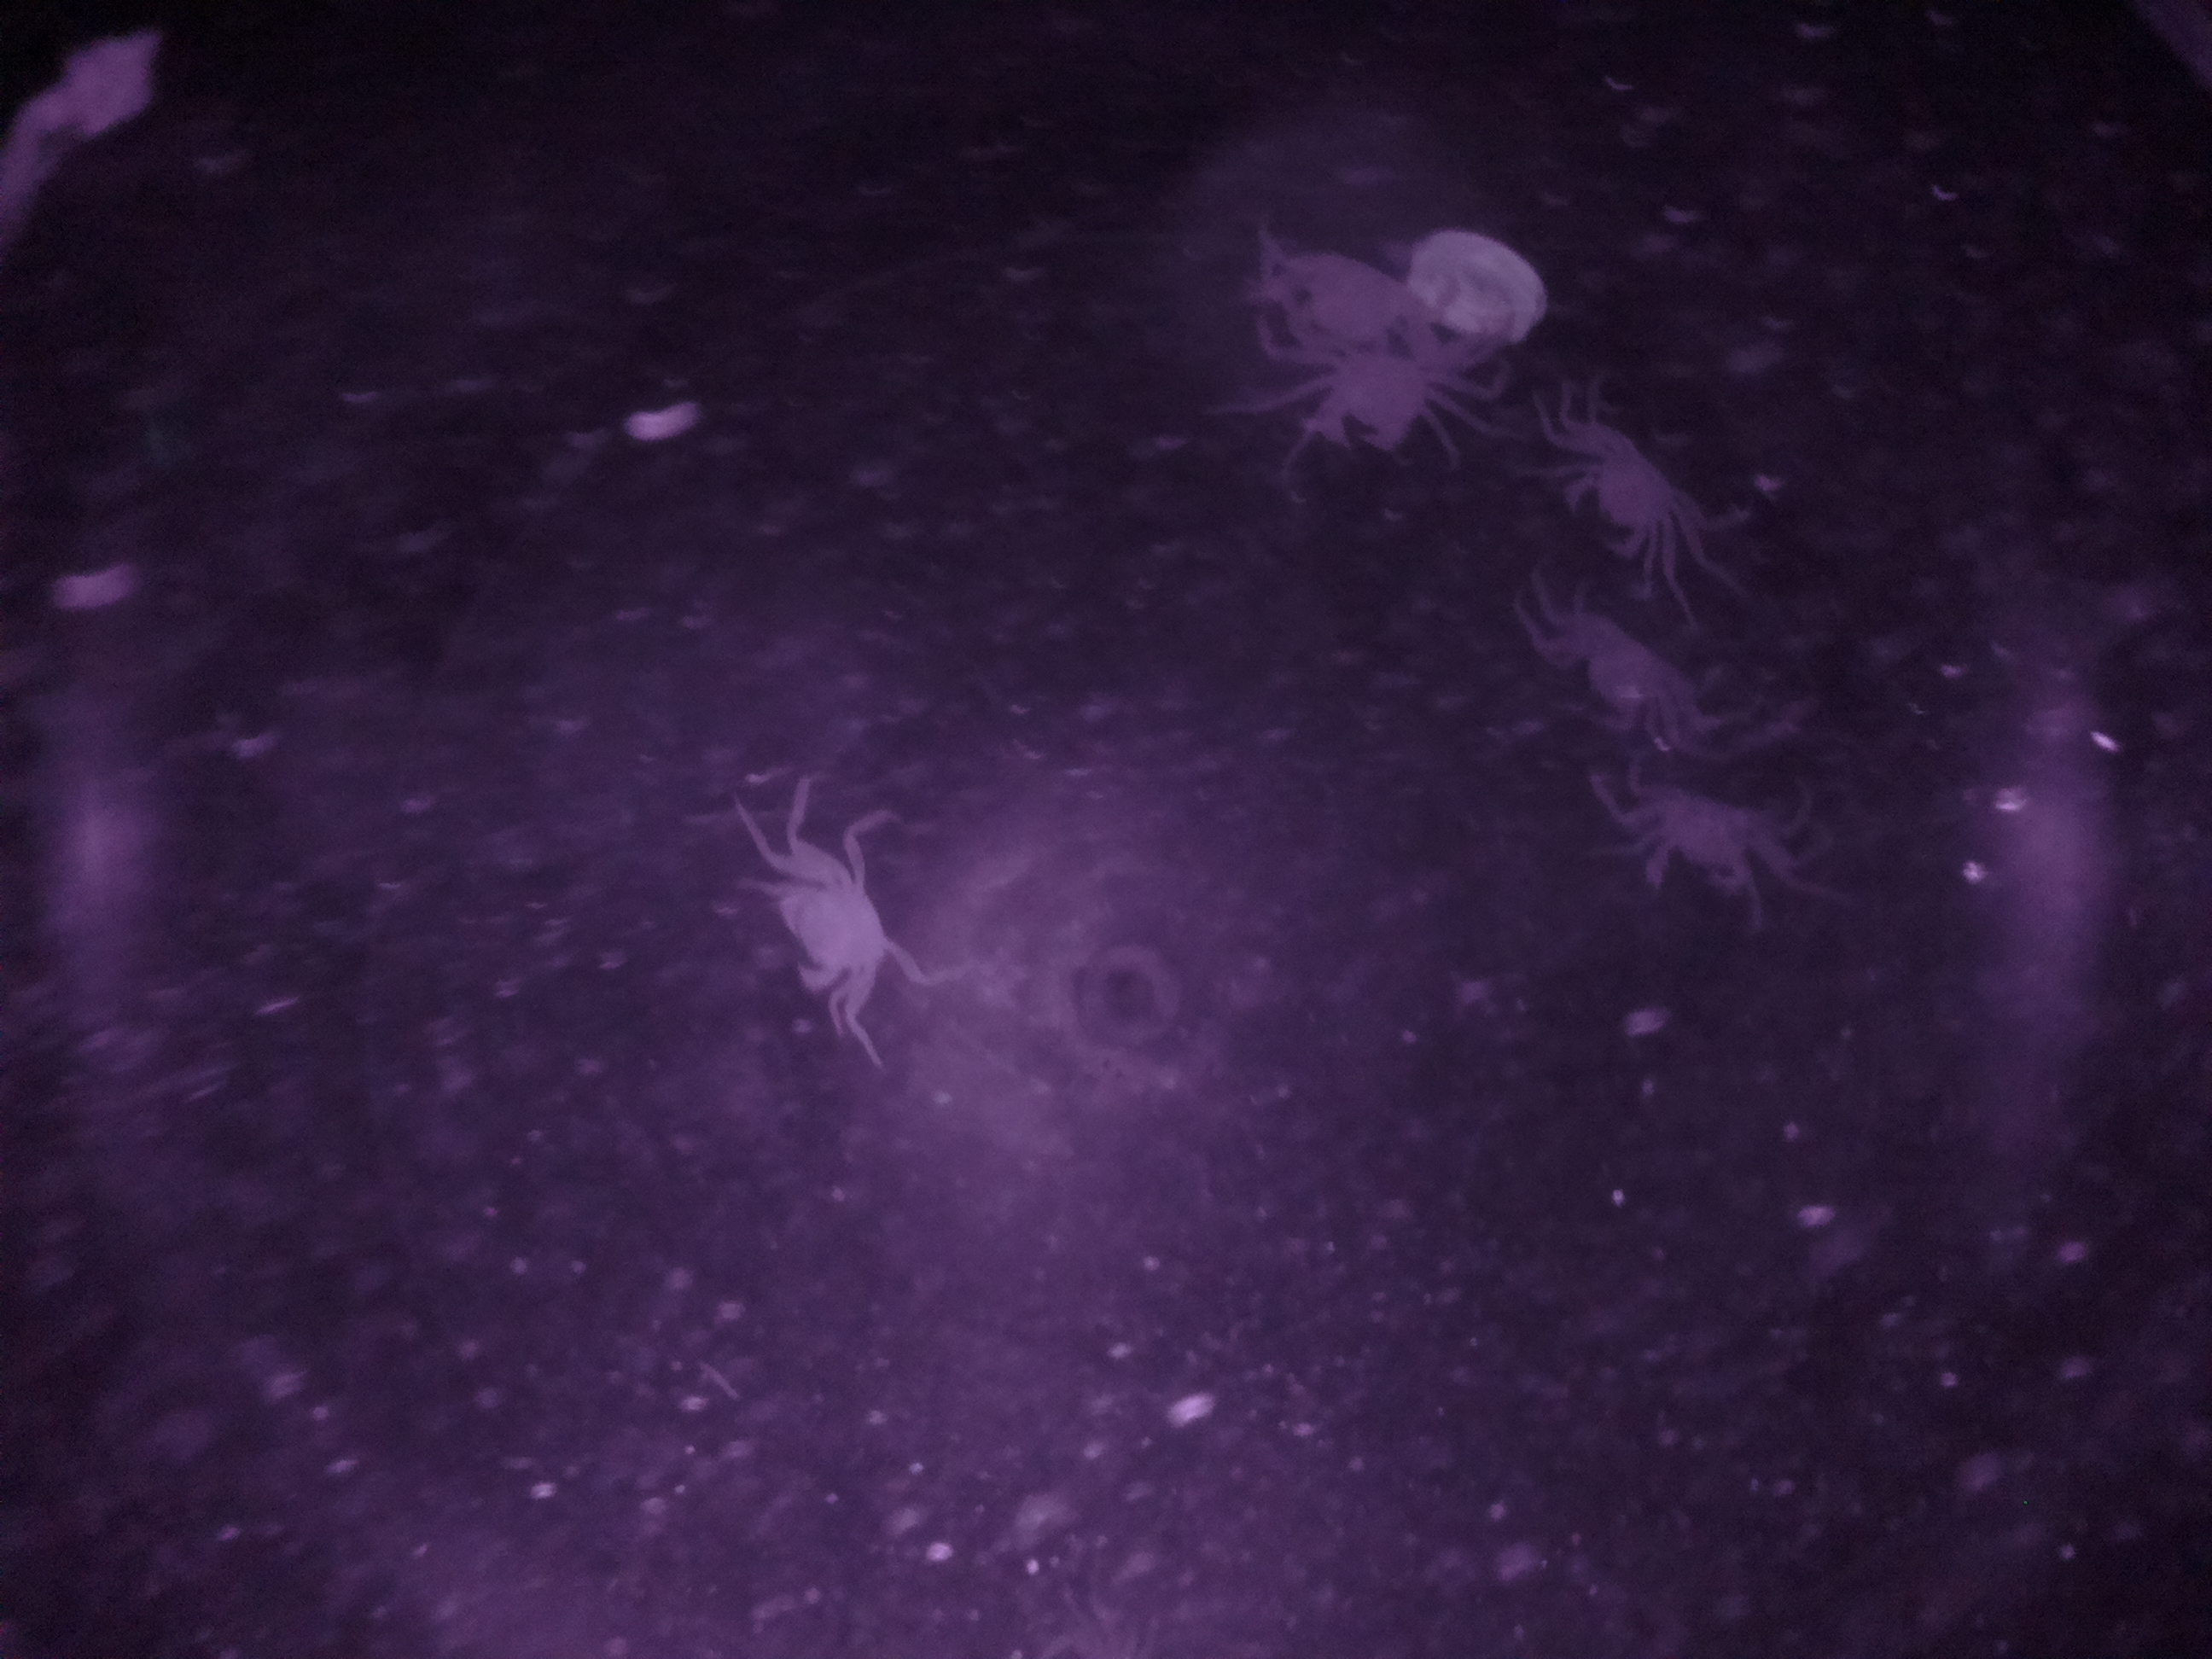Crab: (733, 782, 920, 1046), (1540, 387, 1723, 587)
